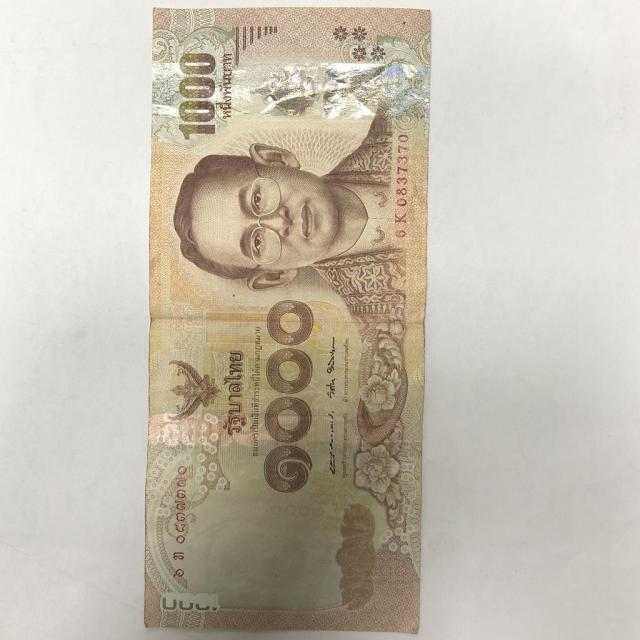THAI1000: (142, 6, 432, 636)
